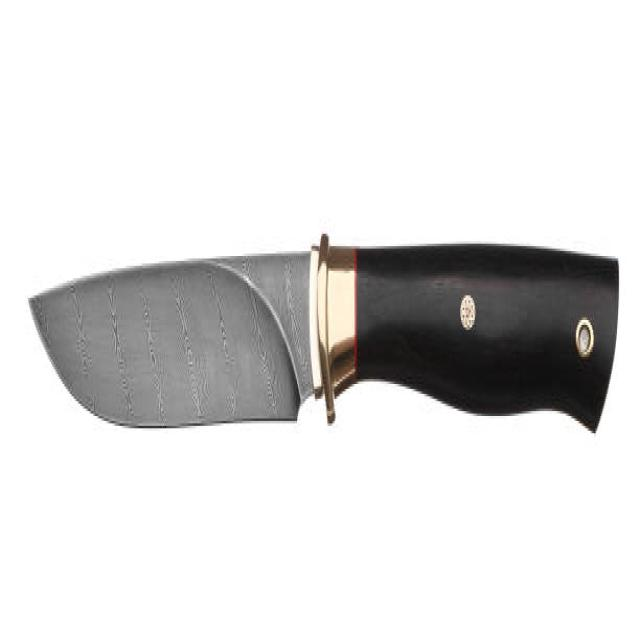knife: (27, 236, 626, 494)
